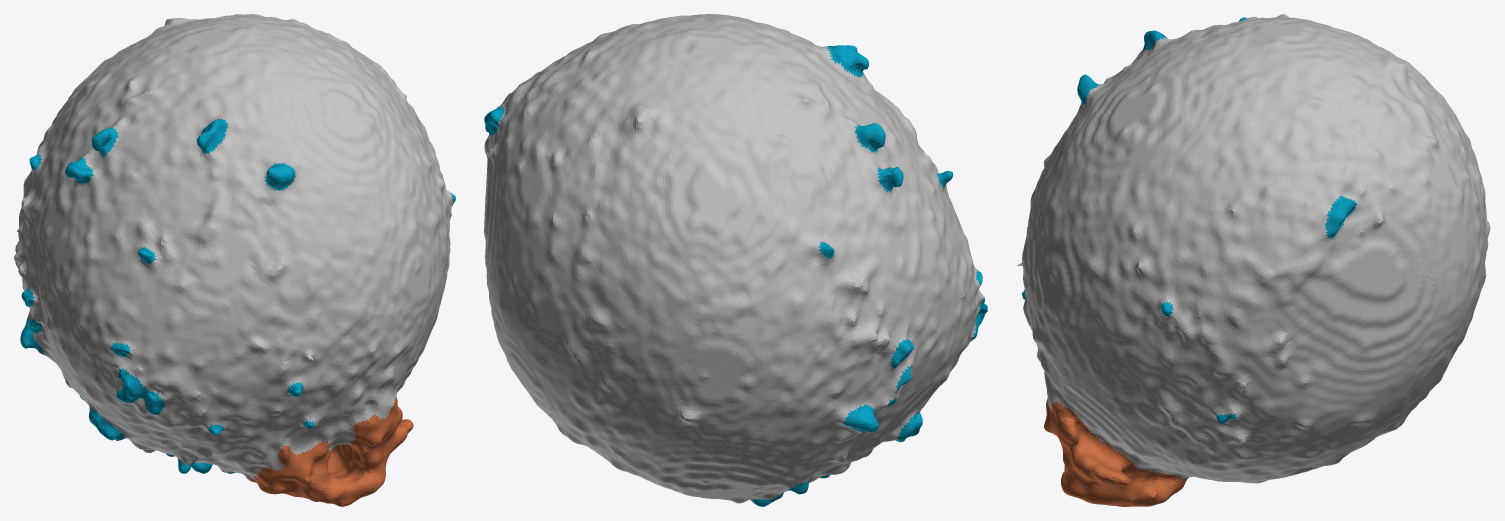
The picture shows the model from 3 angles, left to right: view 1: azimuth 30°, elevation 25°; view 2: azimuth 150°, elevation 25°; view 3: azimuth 270°, elevation 25°; orthographic projection. The views are drawn at different scales.
Size of the model in its own units: 126 by 132 by 125.
